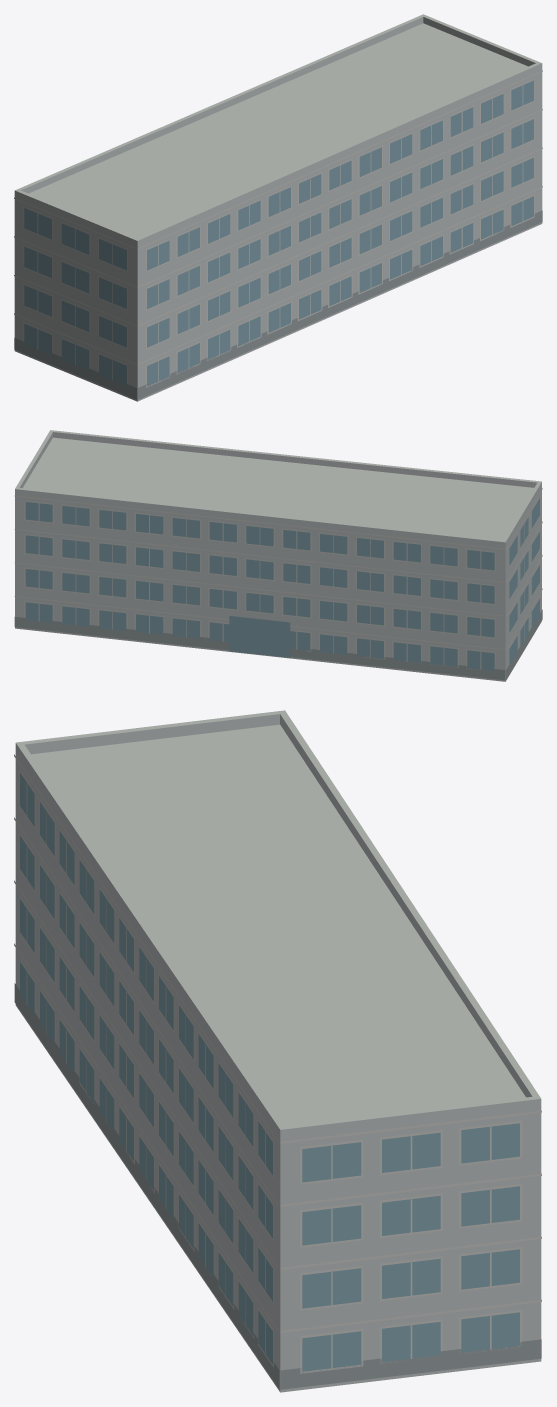
The model's file is public-58a34f45-541a-4c30-bca9-e7c4ad9b62c4.glb.
3 views of the same model, one above another, from view 1: azimuth 30°, elevation 25°; view 2: azimuth 150°, elevation 25°; view 3: azimuth 270°, elevation 25° (orthographic). The views are drawn at different scales.
Visible parts, largest first — view 1: public-58a34f45-541a-4c30-bca9-e7c4ad9b62c4; view 2: public-58a34f45-541a-4c30-bca9-e7c4ad9b62c4; view 3: public-58a34f45-541a-4c30-bca9-e7c4ad9b62c4.
Part boxes in pixels (x1,y1,x2,y2): public-58a34f45-541a-4c30-bca9-e7c4ad9b62c4: [14, 14, 542, 401]; public-58a34f45-541a-4c30-bca9-e7c4ad9b62c4: [14, 430, 542, 681]; public-58a34f45-541a-4c30-bca9-e7c4ad9b62c4: [14, 710, 541, 1392].
Bounding box in the file's own units: 41.92 × 12.2 × 22.26.
